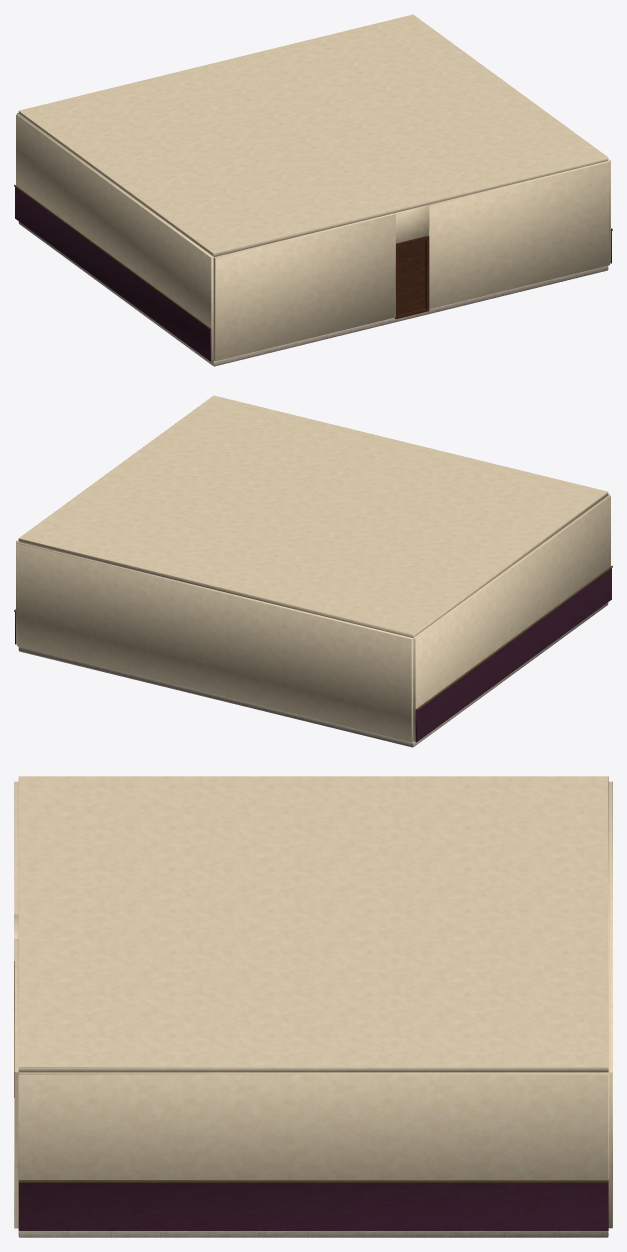
Rendered from explore3d__record_room.glb.
3 renders of one model, top to bottom at view 1: azimuth 30°, elevation 25°; view 2: azimuth 150°, elevation 25°; view 3: azimuth 270°, elevation 25°, orthographic. The views are drawn at different scales.
Parts seen in each view (by area): view 1: Rebuilt_record_room; view 2: Rebuilt_record_room; view 3: Rebuilt_record_room.
Boxes of the visible parts, x1,y1,x2,y2 form: Rebuilt_record_room: [14, 14, 612, 366]; Rebuilt_record_room: [14, 395, 612, 747]; Rebuilt_record_room: [14, 776, 612, 1237].
Size of the model in its own units: 14.32 by 3.84 by 12.19.
14 materials, 13 textured.
